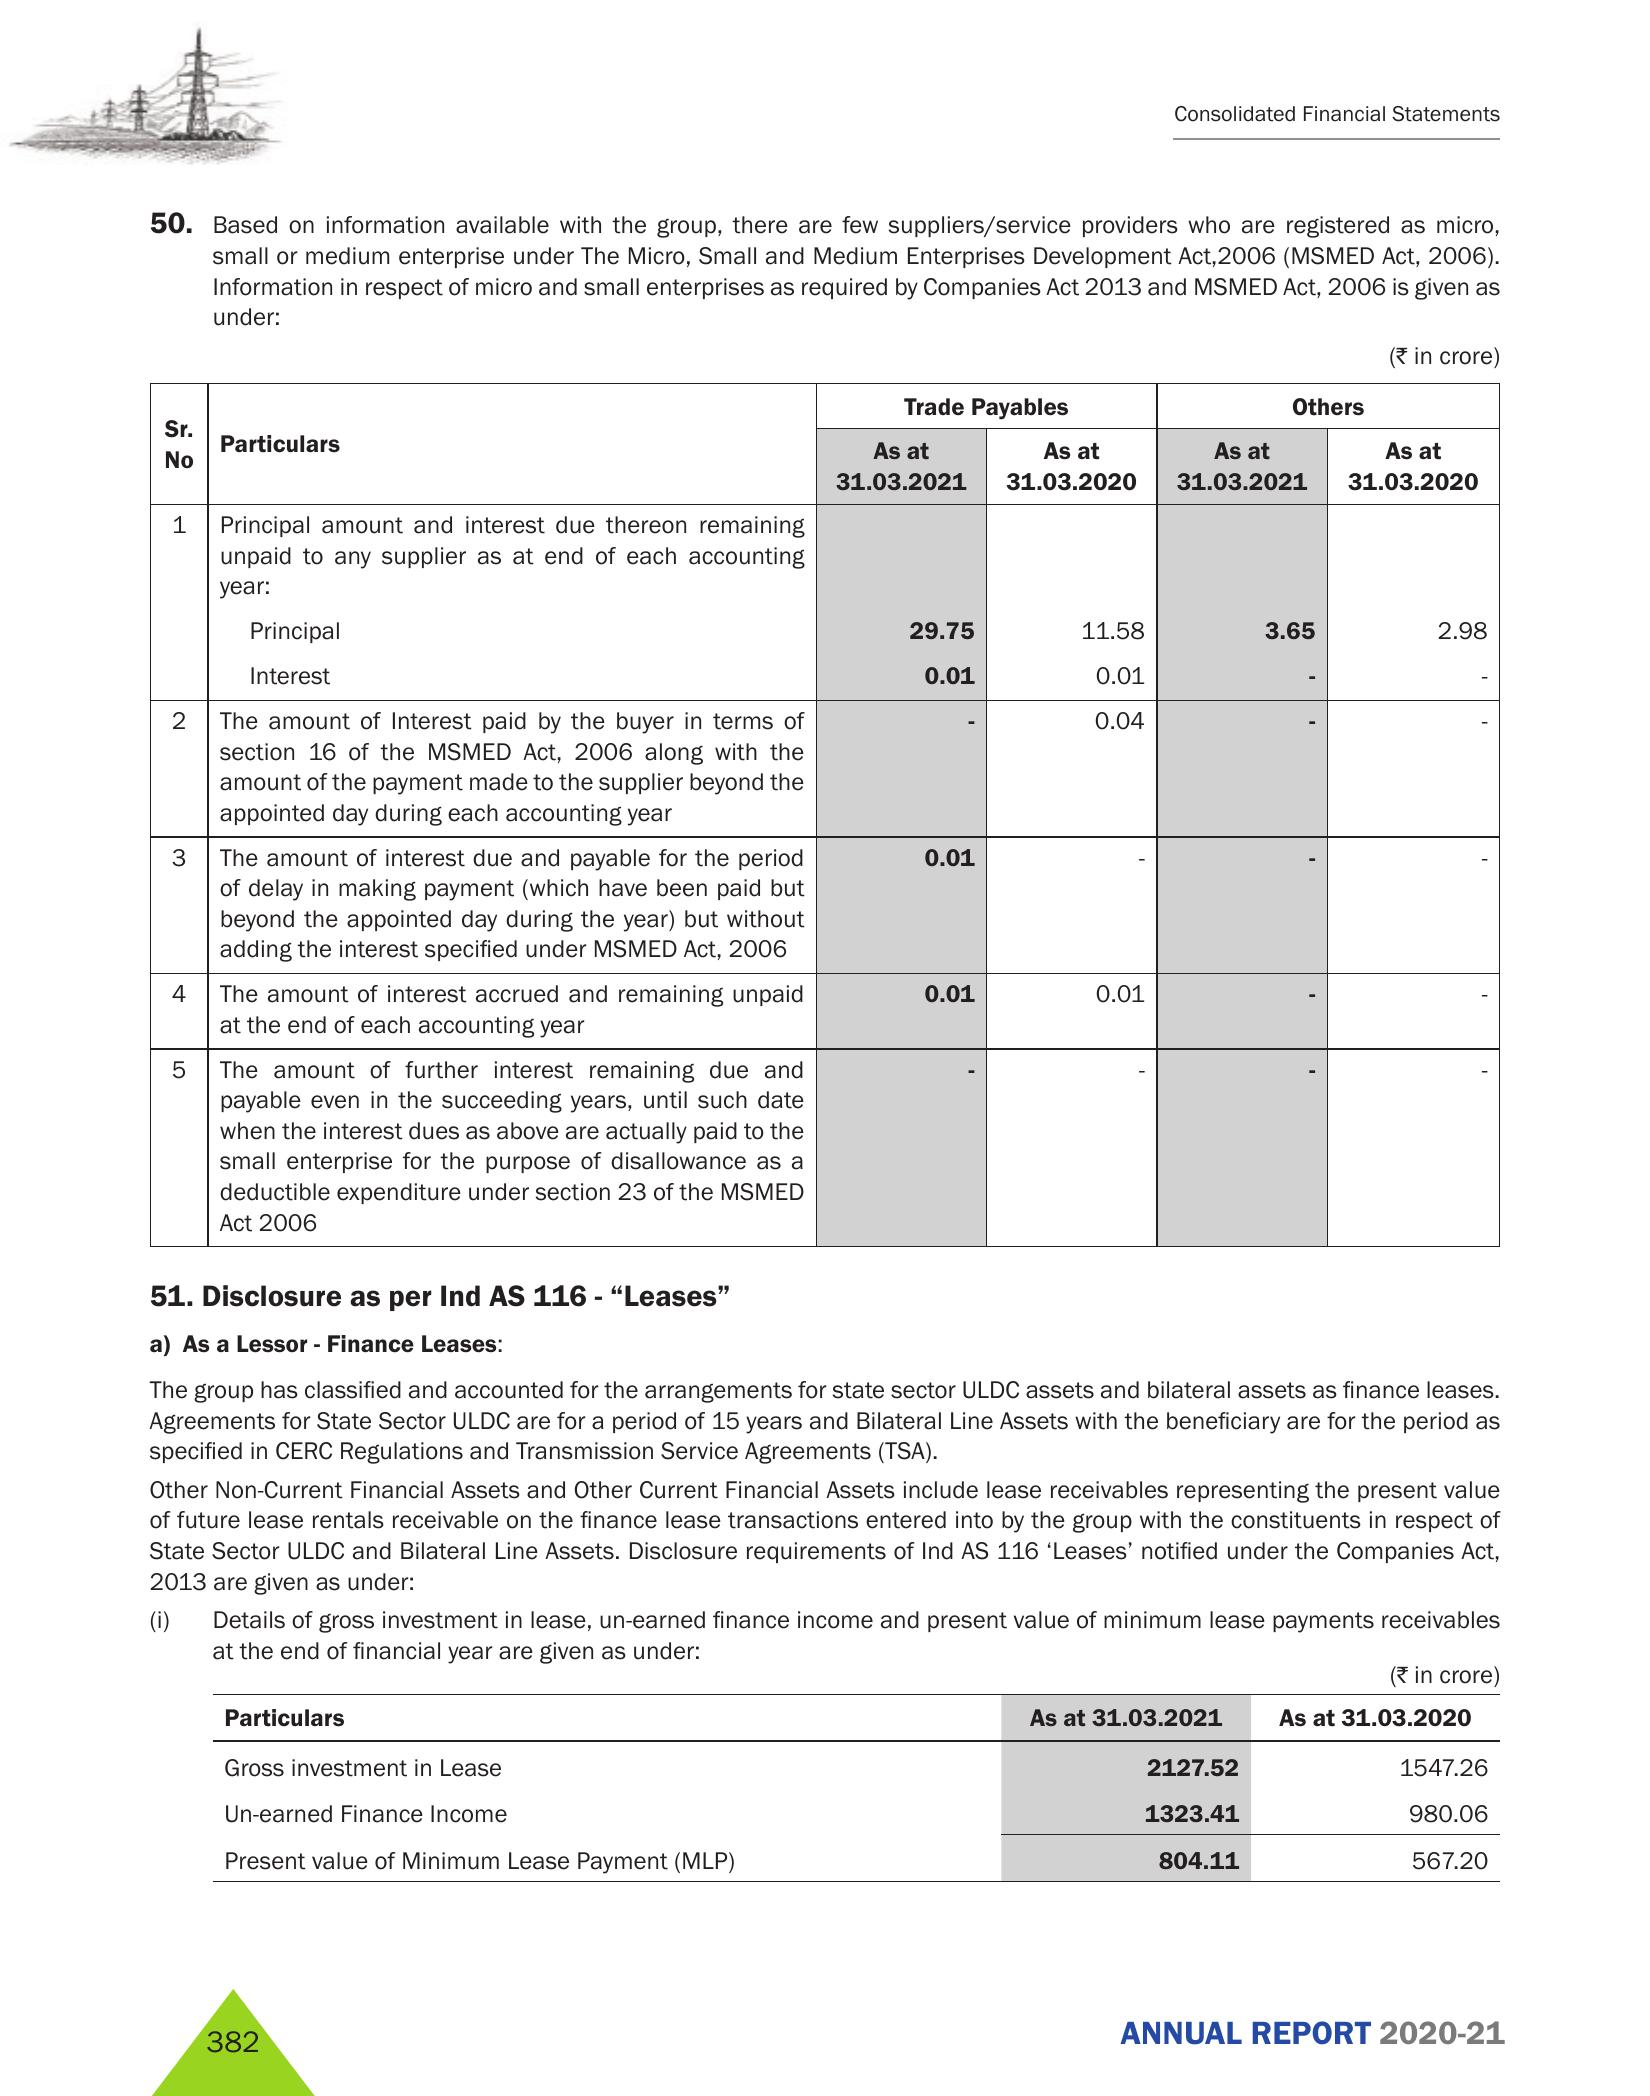Footer: (0, 1968, 1650, 2096)
Header: (0, 0, 1650, 175)
Table: (85, 320, 1511, 1257), (94, 1655, 1483, 1921)
